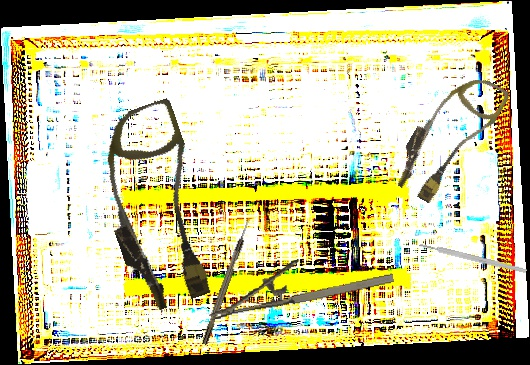Cannula: (78, 97, 234, 316), (386, 61, 512, 212)
Hook Surgical: (200, 217, 253, 346)
Needle Holder: (202, 243, 395, 321)
Scalpel Handle: (418, 241, 528, 275)
